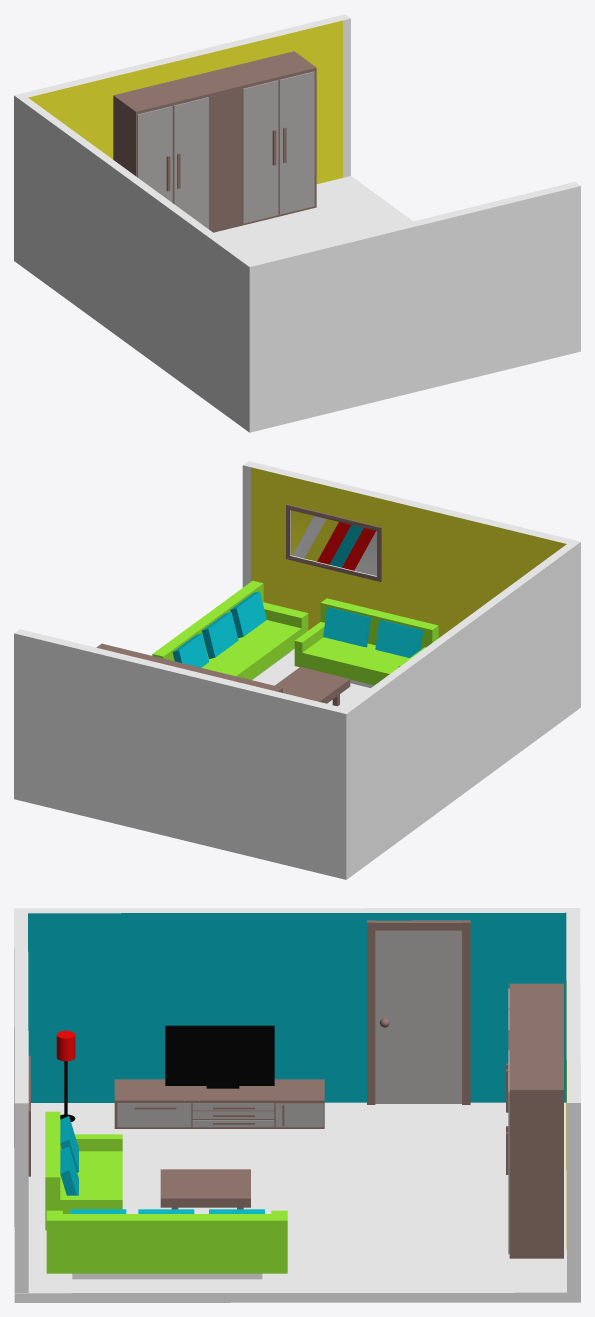
File: 705f4601-cbb4-4b93-8962-ac8ae83912bb.glb
The picture shows the model from 3 angles, top to bottom: view 1: azimuth 30°, elevation 25°; view 2: azimuth 150°, elevation 25°; view 3: azimuth 270°, elevation 25°; orthographic projection. The views are drawn at different scales.
Parts seen in each view (by area): view 1: Box055, Box067, Box080, Box076, Box062, Box057; view 2: Box055, Box094, Box095, Box089, Box090, Box087, Box082, Box088, Box091, Box067, Box097, Box093 (+1 smaller); view 3: Box055, Box067, Box065, Box082, Box072, Box059, Box089, Box090, Box071, Box056, Box087, Box075 (+9 smaller).
Part boxes in pixels (x1=…): Box055: x1=14, y1=14, x2=580, y2=432; Box067: x1=113, y1=51, x2=316, y2=232; Box080: x1=242, y1=80, x2=278, y2=223; Box076: x1=279, y1=71, x2=314, y2=214; Box062: x1=173, y1=97, x2=208, y2=229; Box057: x1=137, y1=106, x2=172, y2=202; Box055: x1=14, y1=461, x2=580, y2=879; Box094: x1=286, y1=504, x2=381, y2=581; Box095: x1=201, y1=602, x2=308, y2=679; Box089: x1=294, y1=622, x2=425, y2=685; Box090: x1=275, y1=667, x2=350, y2=703; Box087: x1=320, y1=598, x2=438, y2=649; Box082: x1=152, y1=580, x2=263, y2=661; Box088: x1=323, y1=607, x2=370, y2=647; Box091: x1=375, y1=620, x2=423, y2=657; Box067: x1=96, y1=643, x2=282, y2=692; Box097: x1=202, y1=612, x2=238, y2=658; Box093: x1=230, y1=591, x2=266, y2=638; Box055: x1=14, y1=908, x2=580, y2=1302; Box067: x1=509, y1=983, x2=563, y2=1258; Box065: x1=375, y1=930, x2=461, y2=1103; Box082: x1=46, y1=1214, x2=287, y2=1273; Box072: x1=165, y1=1025, x2=274, y2=1085; Box059: x1=114, y1=1079, x2=324, y2=1128; Box089: x1=46, y1=1134, x2=122, y2=1229; Box090: x1=160, y1=1169, x2=250, y2=1207; Box071: x1=117, y1=1103, x2=191, y2=1127; Box056: x1=462, y1=920, x2=470, y2=1104; Box087: x1=45, y1=1111, x2=60, y2=1230; Box075: x1=367, y1=920, x2=375, y2=1104.
Size of the model in its own units: 1366963 by 650679 by 1675801.
